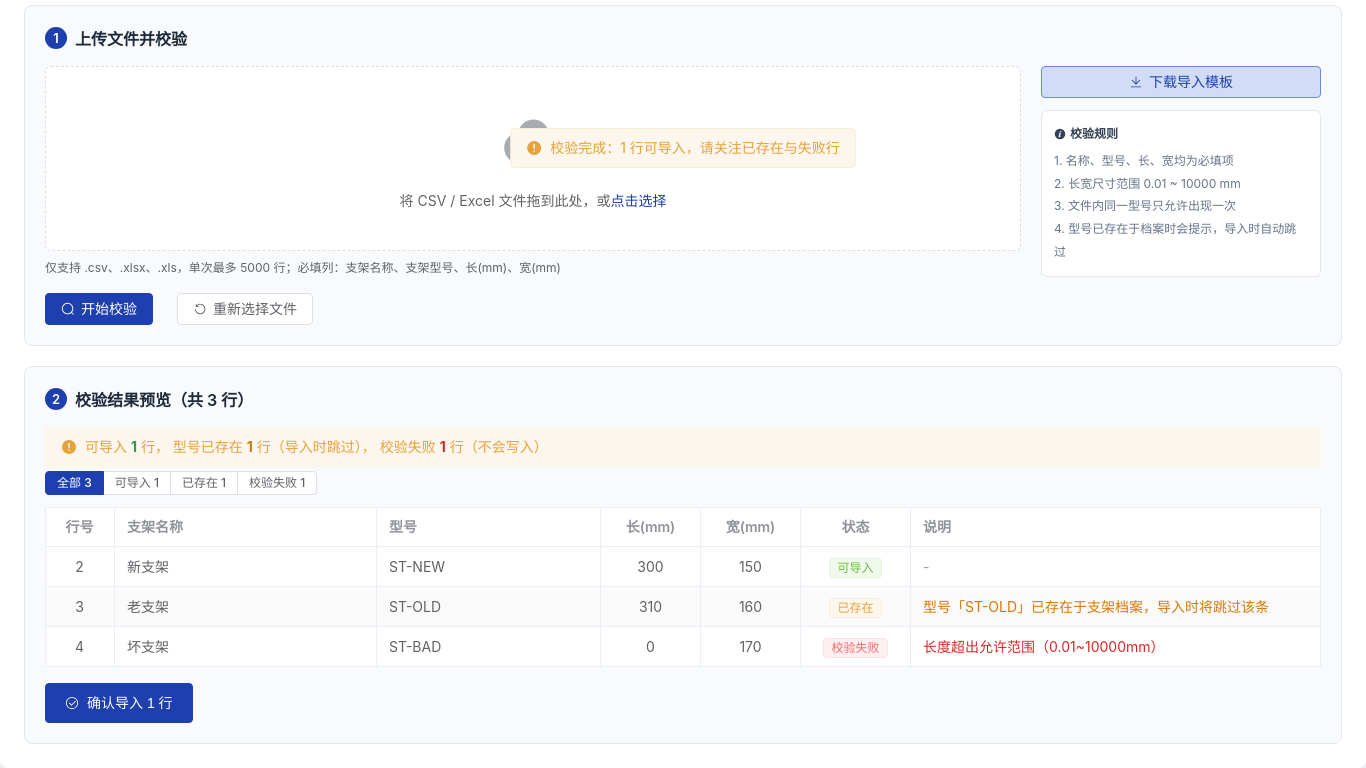
Test: BracketImport 支架档案批量导入工作台 › 型号对不上任何在用批次允许清单时：仍算成功，但结果表新增标记列并写出冲突机台名
(page scrolled)
Click the button "确认导入 1 行". click: coordinates (119, 703)
box: top-left (45, 683), bottom-right (193, 723)
(page scrolled)
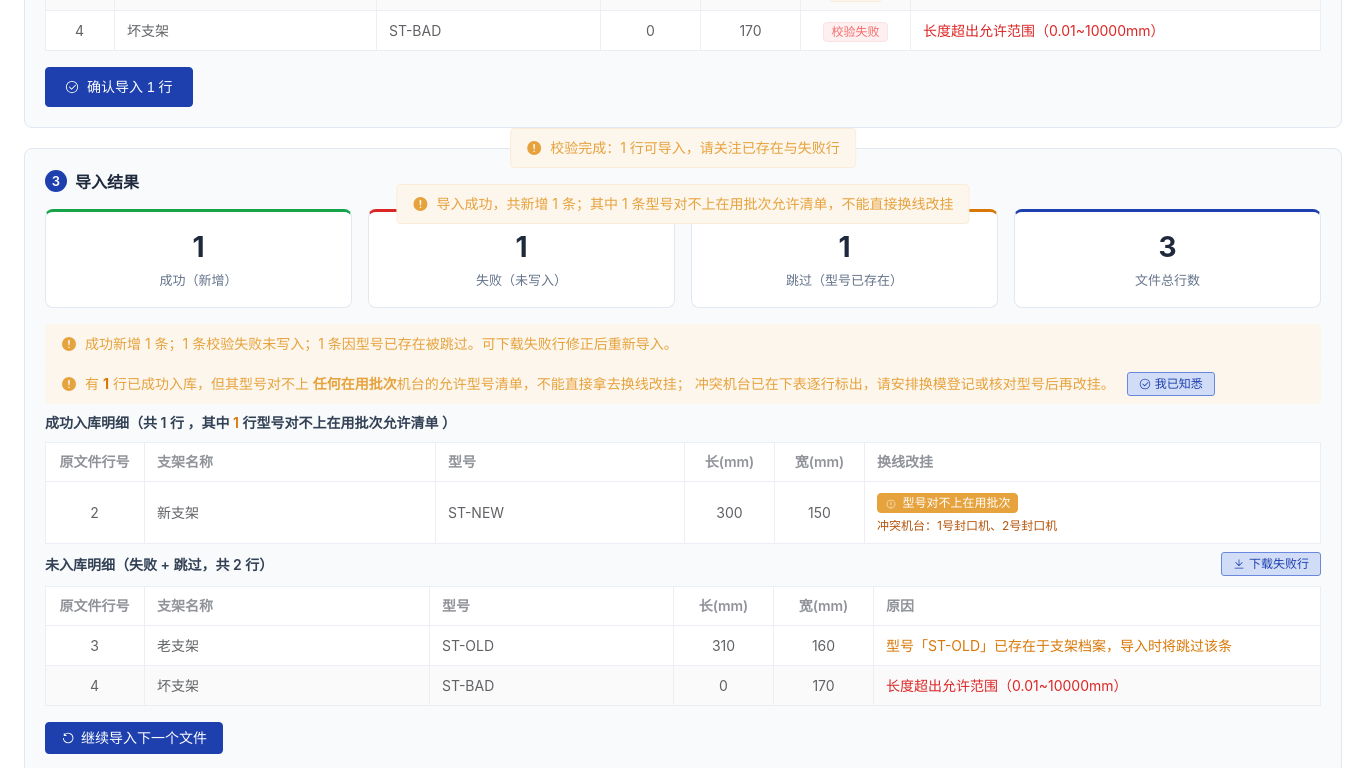
Expected: the text "成功入库明细" is shown, top-left (45, 414), bottom-right (188, 431)
Expected: the text "换线改挂" is shown, top-left (397, 375), bottom-right (1115, 392)
Expected: the text "型号对不上在用批次" is shown, top-left (239, 414), bottom-right (442, 431)
